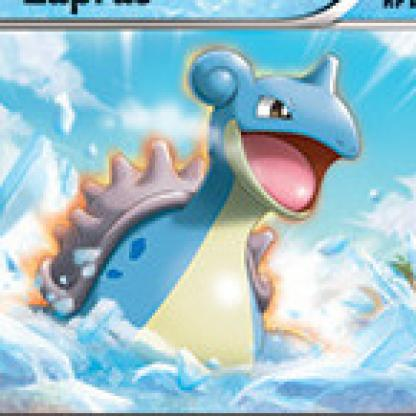Lapras: (27, 45, 402, 383)
